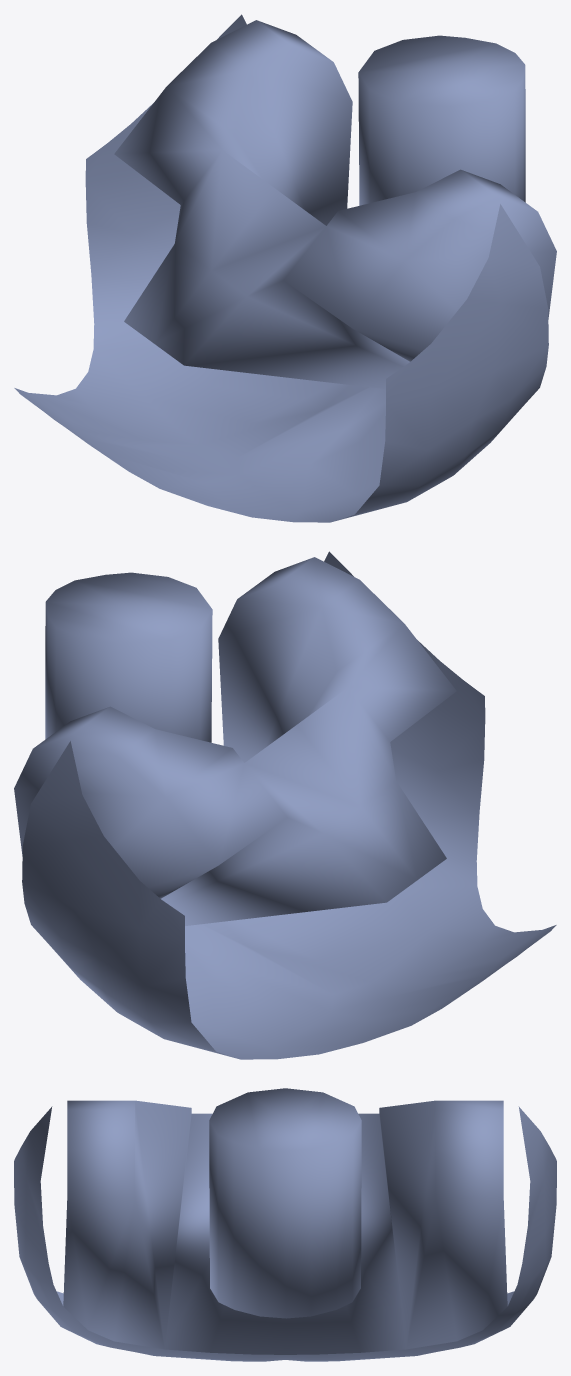
File: icub_simple_collision_lap_belt_1.dae
3 views of the same model, one above another, from view 1: azimuth 30°, elevation 25°; view 2: azimuth 150°, elevation 25°; view 3: azimuth 270°, elevation 25° (orthographic). The views are drawn at different scales.
Parts seen in each view (by area): view 1: pelvis_mesh; view 2: pelvis_mesh; view 3: pelvis_mesh.
Part boxes in pixels (<box>): pelvis_mesh: <box>14,14,556,522</box>; pelvis_mesh: <box>14,551,556,1059</box>; pelvis_mesh: <box>14,1088,556,1361</box>.
Size of the model in its own units: 0.1951 by 0.136 by 0.2202.
